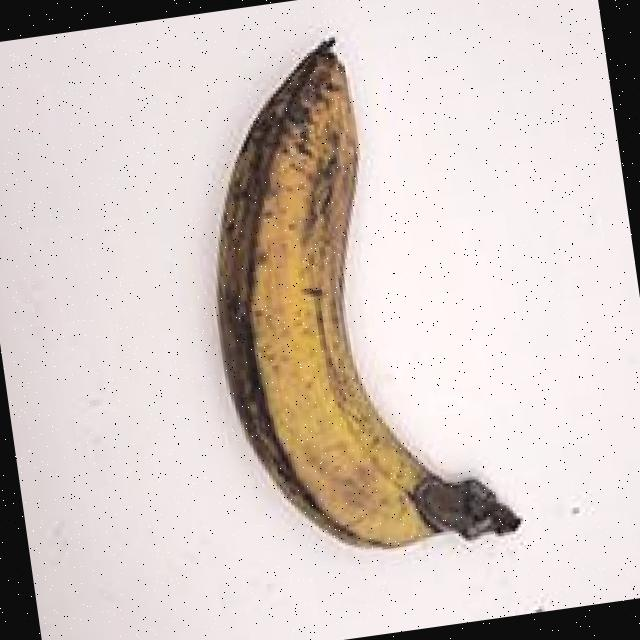Overripe: (133, 0, 572, 597)
